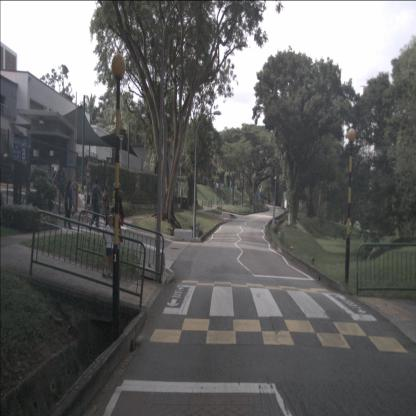human-pedestrian-adult: (112, 197, 124, 279), (89, 179, 103, 231), (64, 180, 73, 231), (102, 186, 110, 221), (221, 195, 225, 205), (233, 195, 236, 206), (235, 196, 238, 204)
